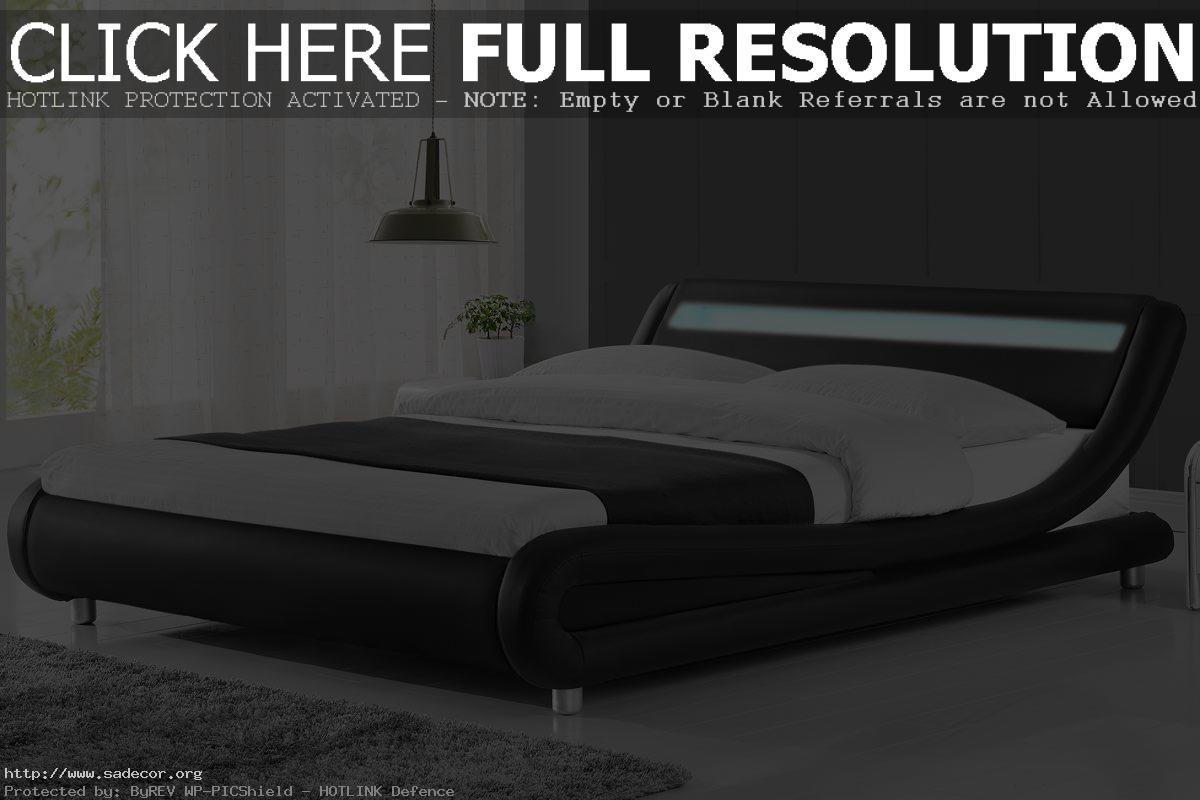bed: (13, 261, 1182, 735)
